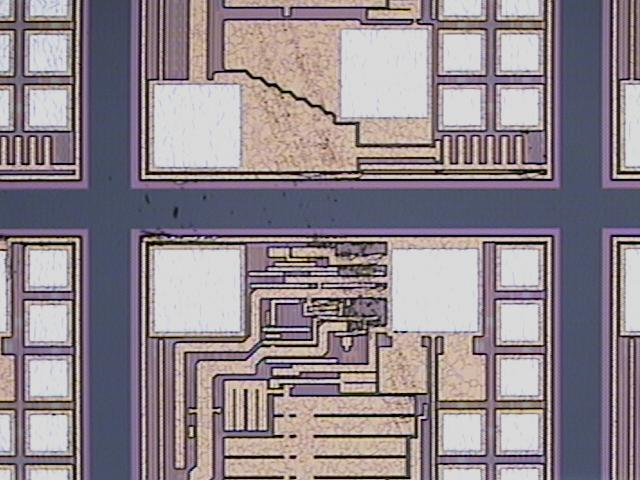SCRATCH: (217, 1, 442, 476)
